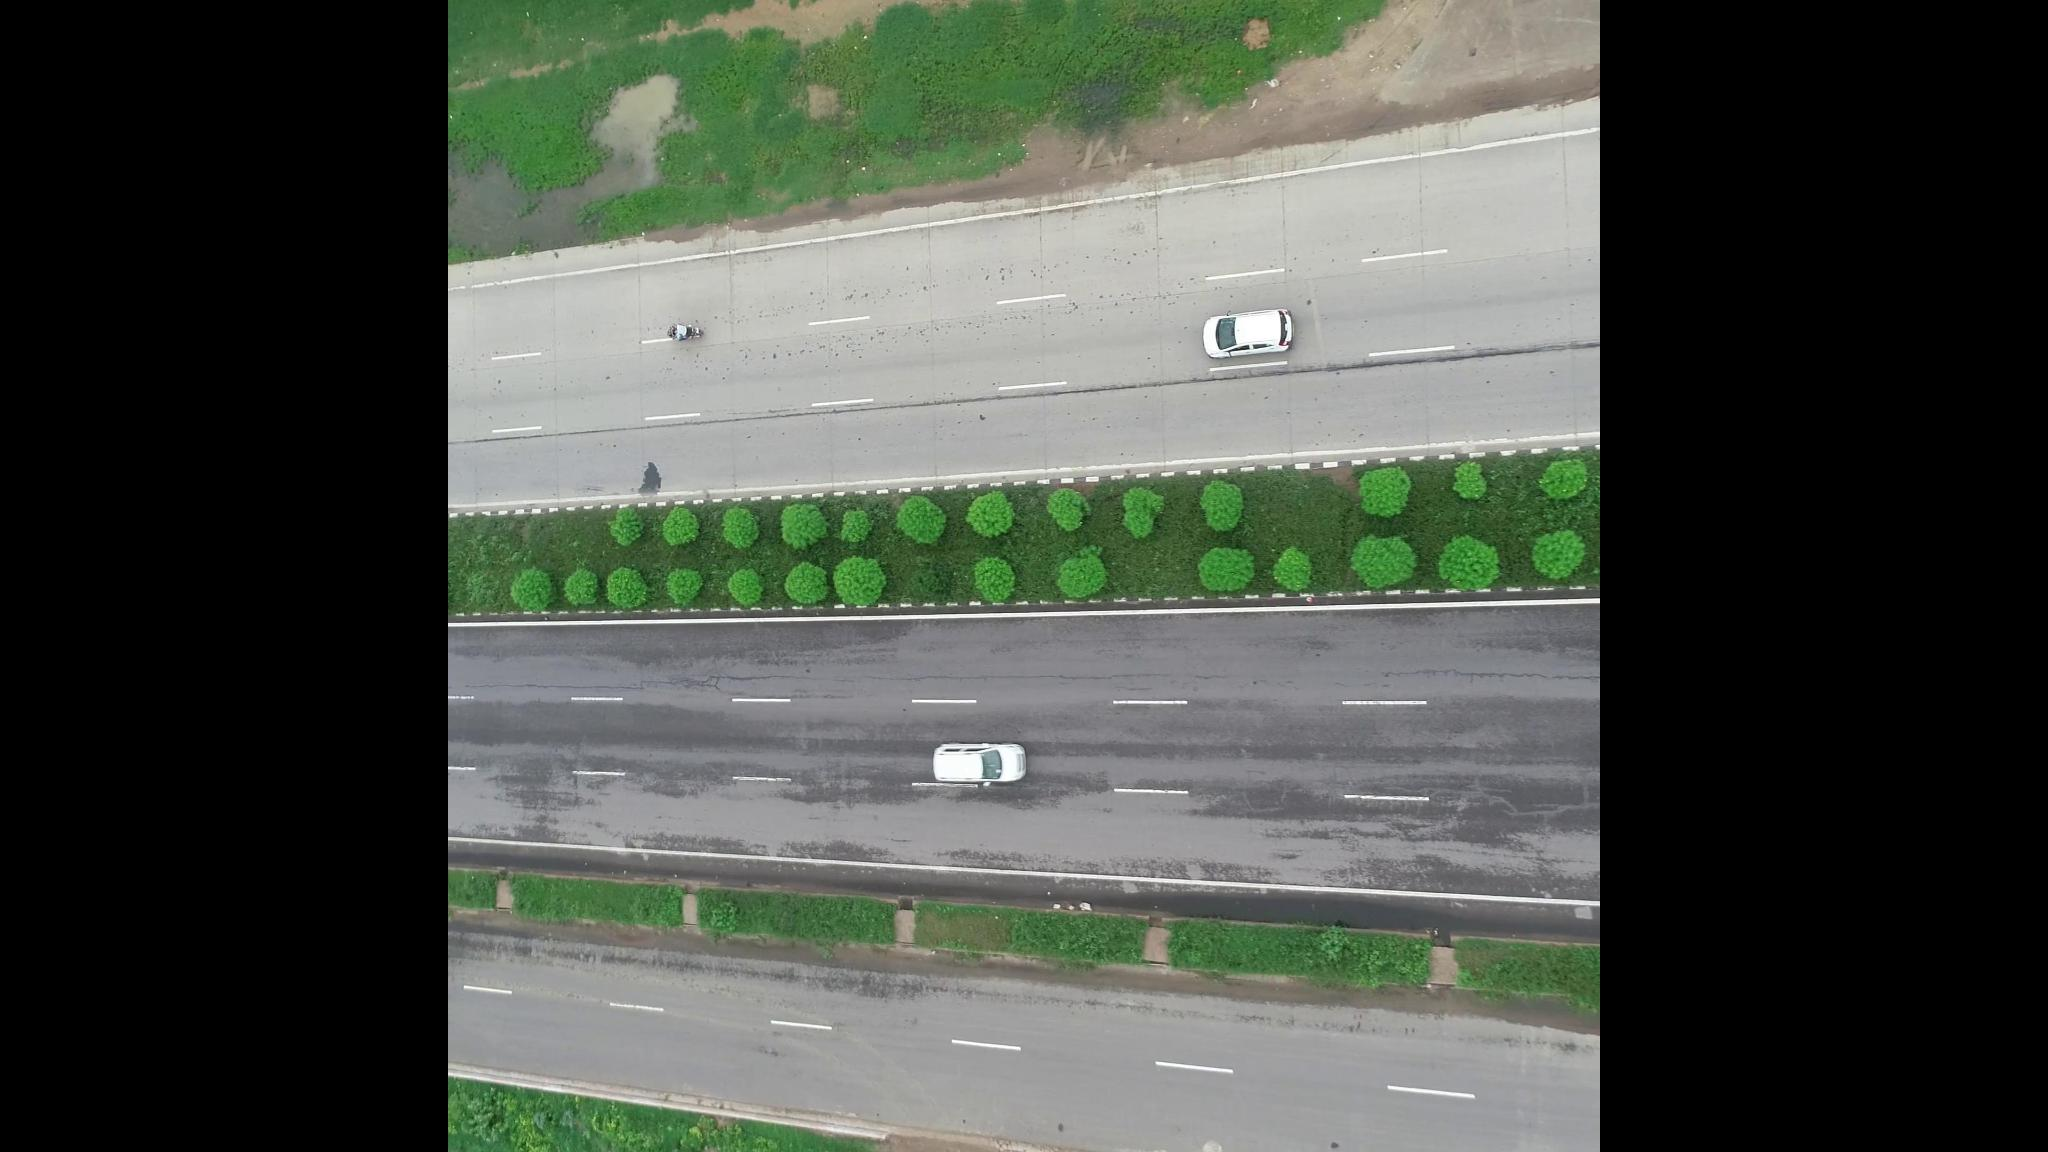Cracks: (454, 670, 776, 693)
